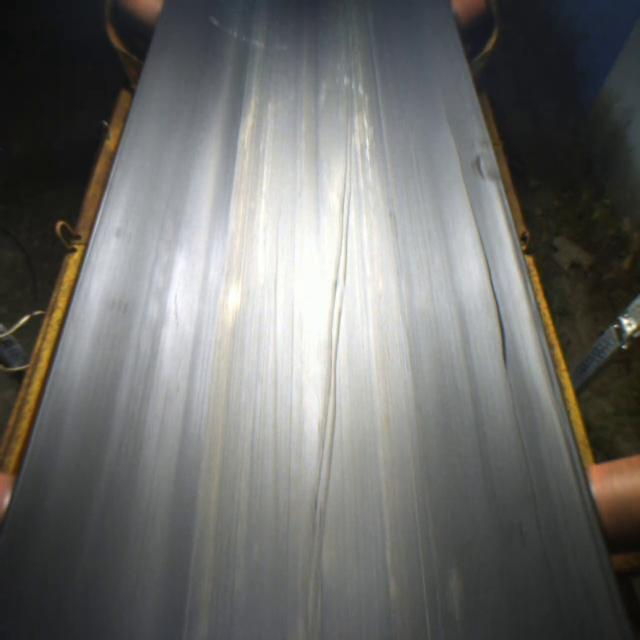Tear: (302, 69, 358, 640), (428, 93, 516, 370)
